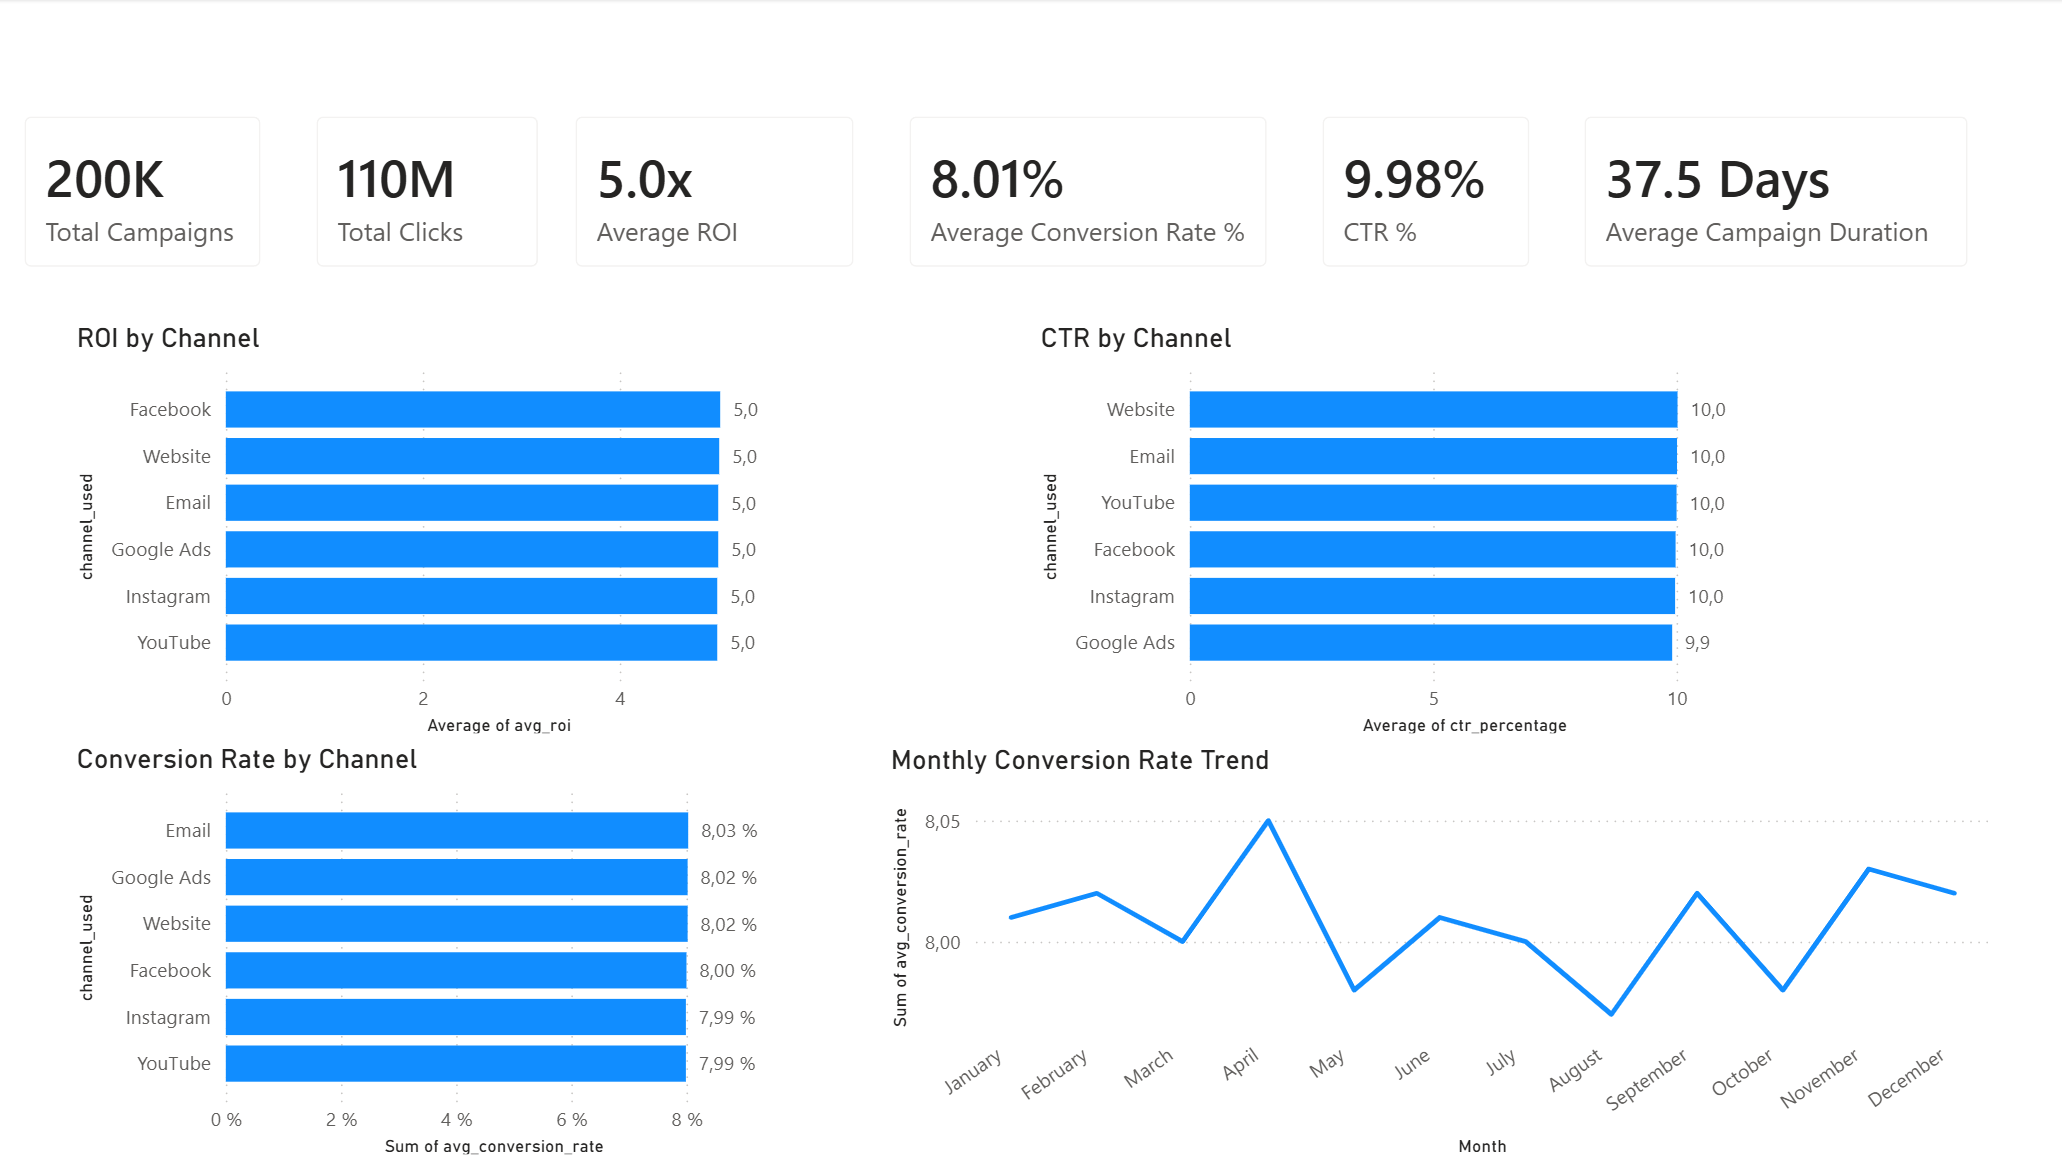

This screenshot's page, from the dashboard's own definition file:
{"tool":"powerbi","page":{"name":"Executive Overview","canvas":[1280,720],"ordinal":0},"visuals":[{"type":"cardVisual","fields":{"Data":["public marketing_campaigns_clean.Total Campaigns"]},"box":[0,55.8,180.8,127.1],"z":0},{"type":"cardVisual","fields":{"Data":["public marketing_campaigns_clean.Average Conversion Rate %"]},"box":[547.5,55.8,255.2,127.1],"z":1000},{"type":"cardVisual","fields":{"Data":["public marketing_campaigns_clean.Total Clicks"]},"box":[180.8,55.8,171.5,127.1],"z":2000},{"type":"cardVisual","fields":{"Data":["public marketing_campaigns_clean.Average ROI Display"]},"box":[340.9,55.8,206.6,127.1],"z":3000},{"type":"cardVisual","fields":{"Data":["public marketing_campaigns_clean.Average Campaign Duration"]},"box":[964.9,55.8,271.7,127.1],"z":4000},{"type":"cardVisual","fields":{"Data":["public marketing_campaigns_clean.CTR %"]},"box":[802.7,55.8,162.2,127.1],"z":5000},{"type":"barChart","title":"ROI by Channel","fields":{"Category":["public vw_channel_performance.channel_used"],"Y":["Avg(public vw_channel_performance.avg_roi)"]},"box":[44.4,199.4,444.2,260.3],"z":6000},{"type":"barChart","title":"Conversion Rate by Channel","fields":{"Category":["public vw_channel_performance.channel_used"],"Y":["Sum(public vw_channel_performance.avg_conversion_rate)"]},"box":[44.4,459.7,444.2,260.3],"z":7000},{"type":"barChart","title":"CTR by Channel","fields":{"Category":["public vw_channel_ctr.channel_used"],"Y":["Avg(public vw_channel_ctr.ctr_percentage)"]},"box":[640.5,199.4,449.4,260.3],"z":8000},{"type":"lineChart","title":"Monthly Conversion Rate Trend","fields":{"Category":["public vw_monthly_performance.month.Variation.Date Hierarchy.Month"],"Y":["Sum(public vw_monthly_performance.avg_conversion_rate)"]},"box":[548,460.2,688.9,259.8],"z":9000}]}

Visuals, with their boxes in screenshot pixels (x1, y1, x2, y2), scaled from the page's 1280x720 canvas onto the 2062x1158 screenshot:
cardVisual - public marketing_campaigns_clean.Total Campaigns: 0/90/291/294
cardVisual - public marketing_campaigns_clean.Average Conversion Rate %: 882/90/1293/294
cardVisual - public marketing_campaigns_clean.Total Clicks: 291/90/568/294
cardVisual - public marketing_campaigns_clean.Average ROI Display: 549/90/882/294
cardVisual - public marketing_campaigns_clean.Average Campaign Duration: 1554/90/1992/294
cardVisual - public marketing_campaigns_clean.CTR %: 1293/90/1554/294
"ROI by Channel" barChart: 72/321/787/739
"Conversion Rate by Channel" barChart: 72/739/787/1157
"CTR by Channel" barChart: 1032/321/1756/739
"Monthly Conversion Rate Trend" lineChart: 883/740/1993/1157
